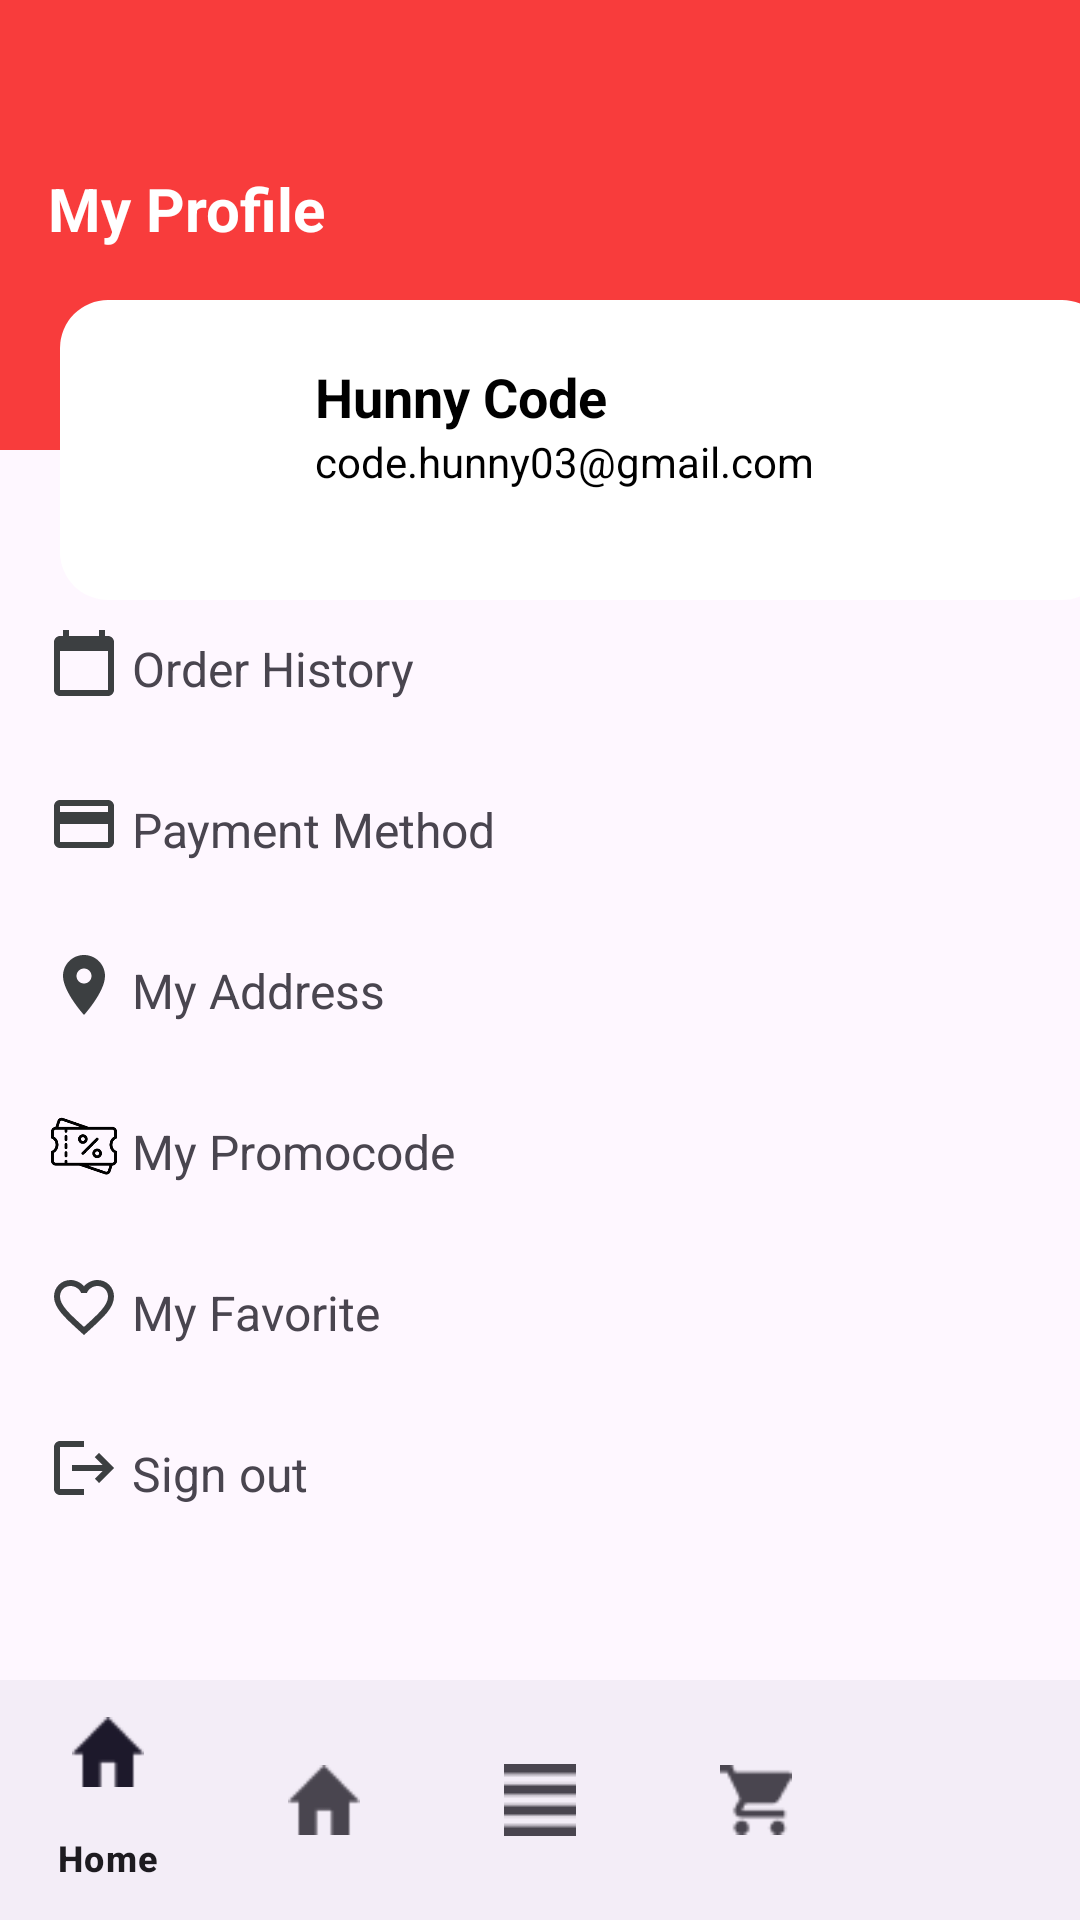

Icon click points for this 1080w x 1920h phone screenshot, format [x,y]:
calendar: [84,663]
card: [84,824]
location: [84,985]
